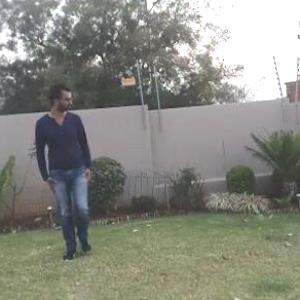follow: (40, 79, 96, 261)
